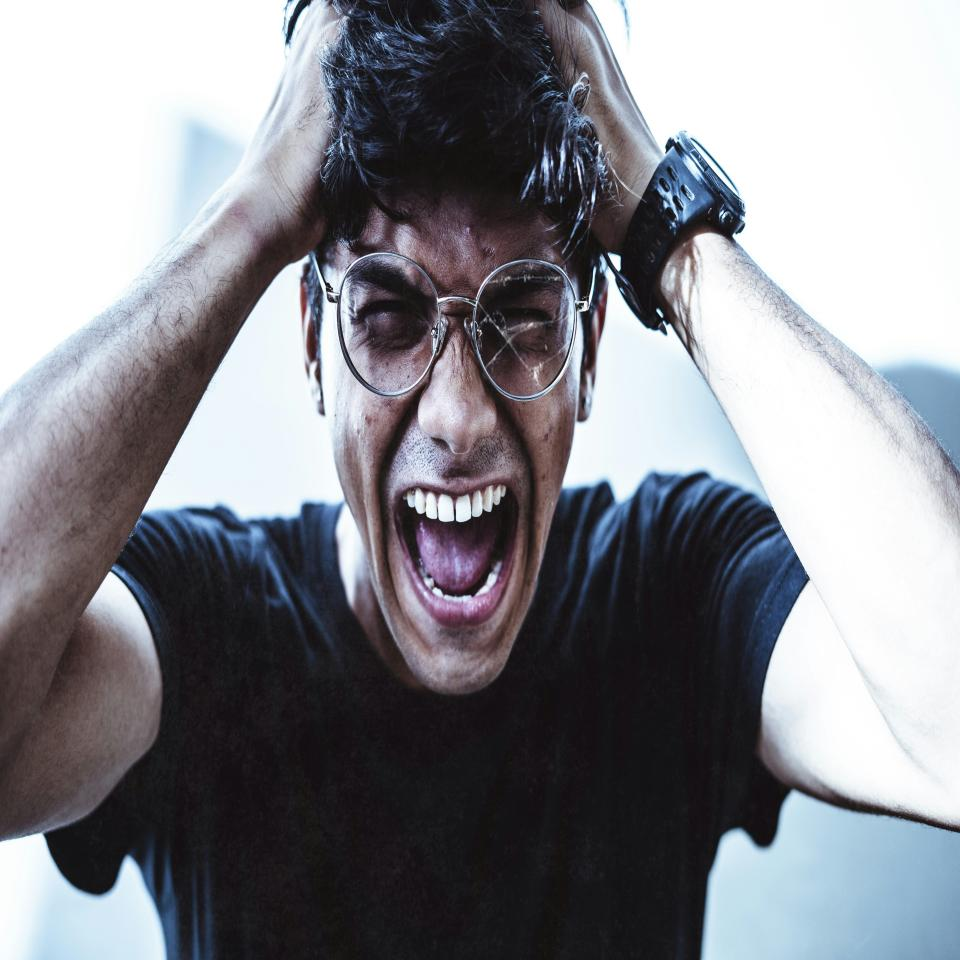Anger: (325, 183, 588, 695)
